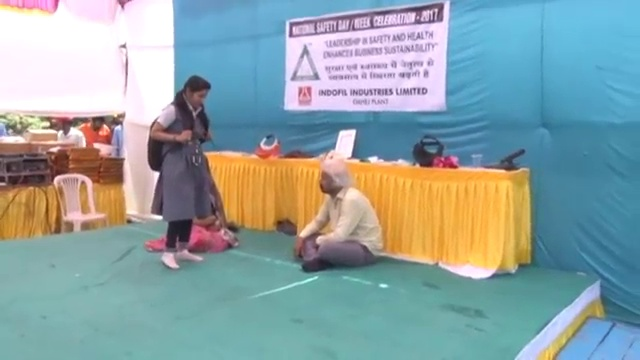helmet_off: (318, 156, 348, 197), (181, 76, 211, 113)
person: (147, 74, 212, 267), (293, 156, 384, 273), (186, 155, 237, 254), (81, 115, 112, 153), (55, 115, 86, 149), (113, 113, 127, 158)
